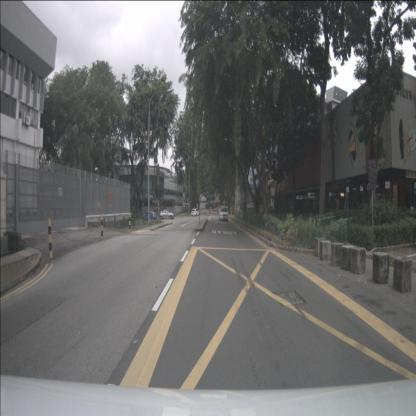vehicle-bus-rigid: (212, 201, 230, 213)
vehicle-car: (141, 211, 157, 222), (158, 210, 175, 220), (219, 206, 229, 221), (191, 208, 200, 216)
